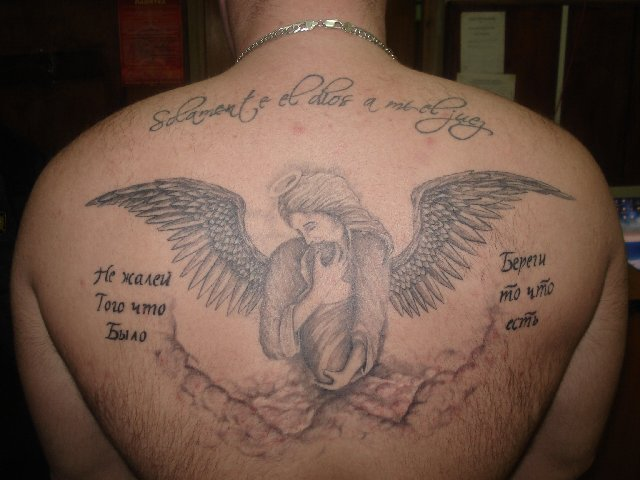tatu1_angel: (91, 168, 574, 394)
tatu3_bukva: (148, 72, 496, 155), (81, 258, 188, 365), (486, 247, 566, 348)
